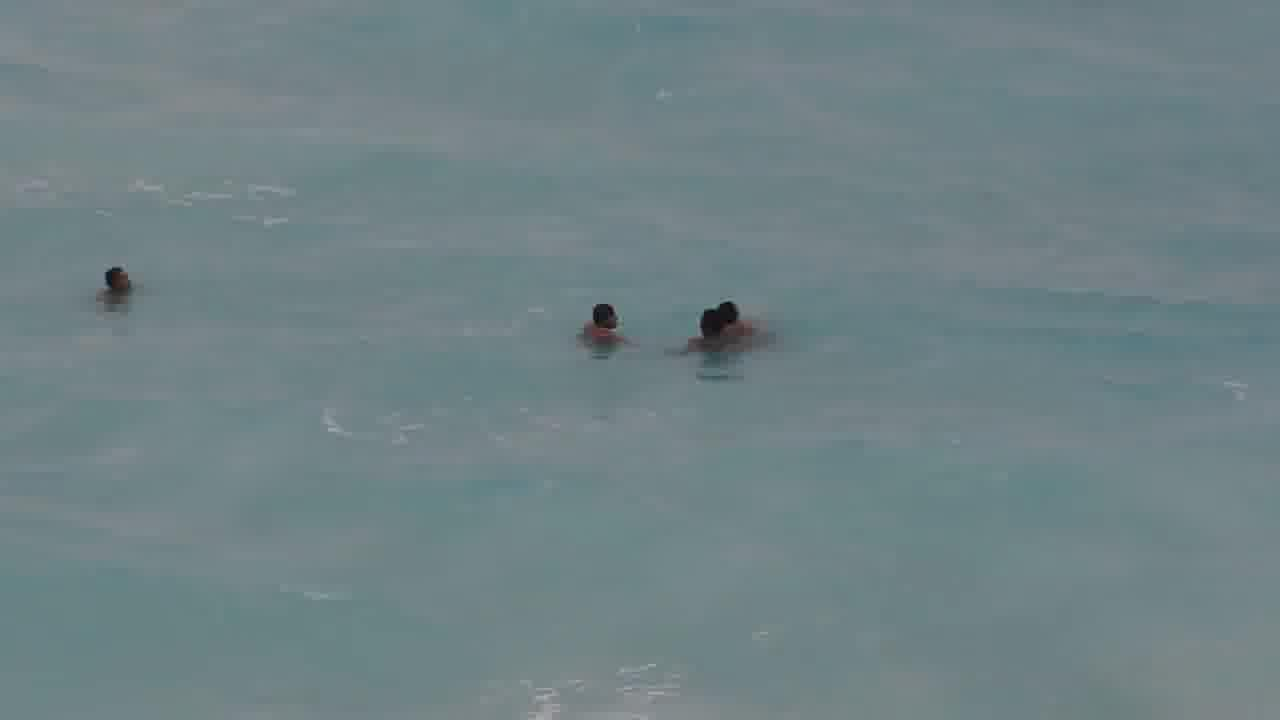human: (718, 286, 785, 341), (690, 298, 752, 353), (580, 291, 626, 354), (91, 266, 151, 307)
